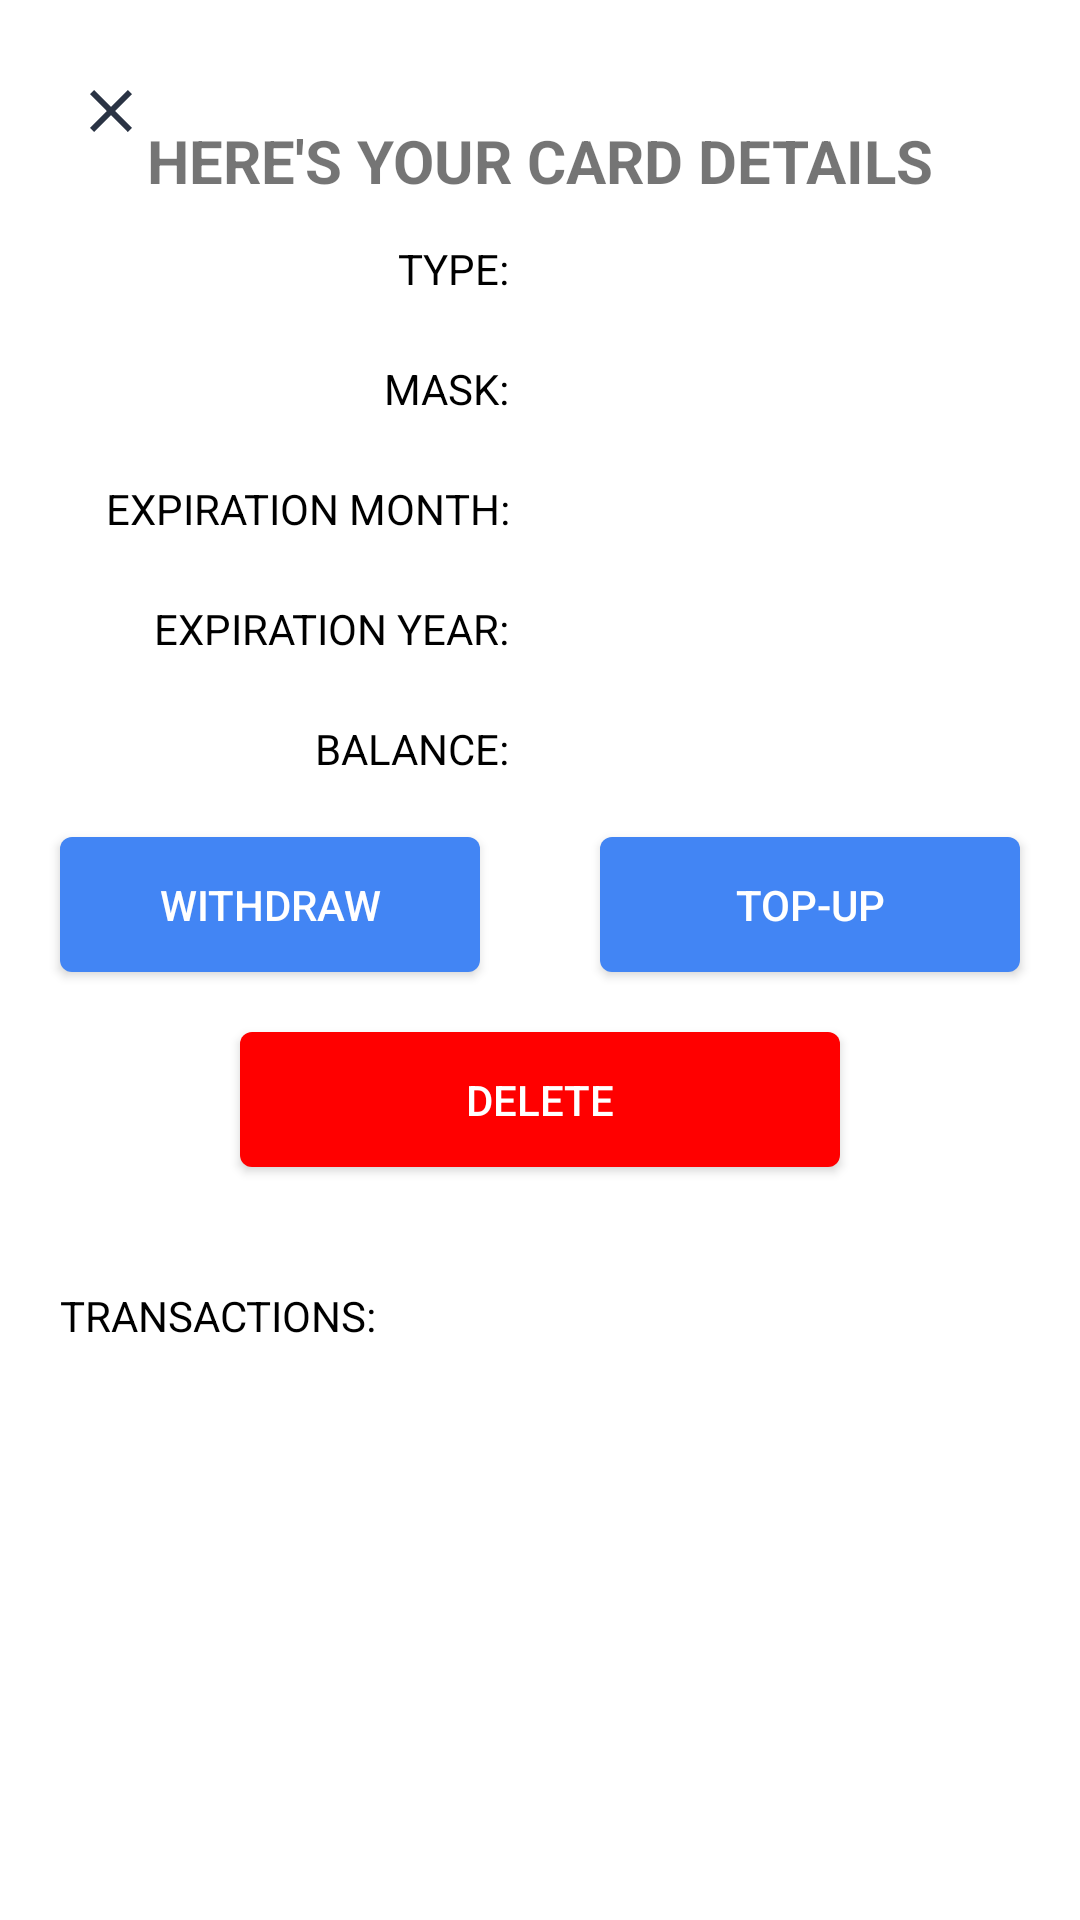

Screen size 1080 x 1920. Icon name, then its box in pixels as (x1, y1, x2, y2):
close: (90, 90, 132, 132)
